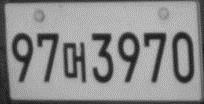0: (171, 31, 194, 82)
3: (91, 32, 114, 83)
7: (35, 32, 59, 82), (143, 32, 167, 82)
9: (117, 31, 140, 83), (10, 32, 33, 82)
머: (62, 41, 86, 83)
